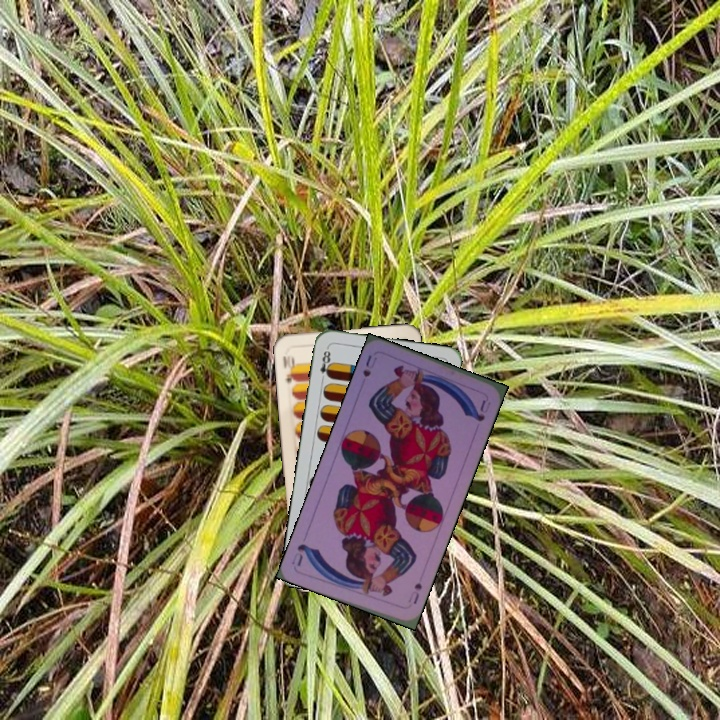E10: (279, 352, 299, 387)
E8: (316, 344, 334, 384)
SU: (358, 351, 380, 382), (404, 579, 425, 607)
